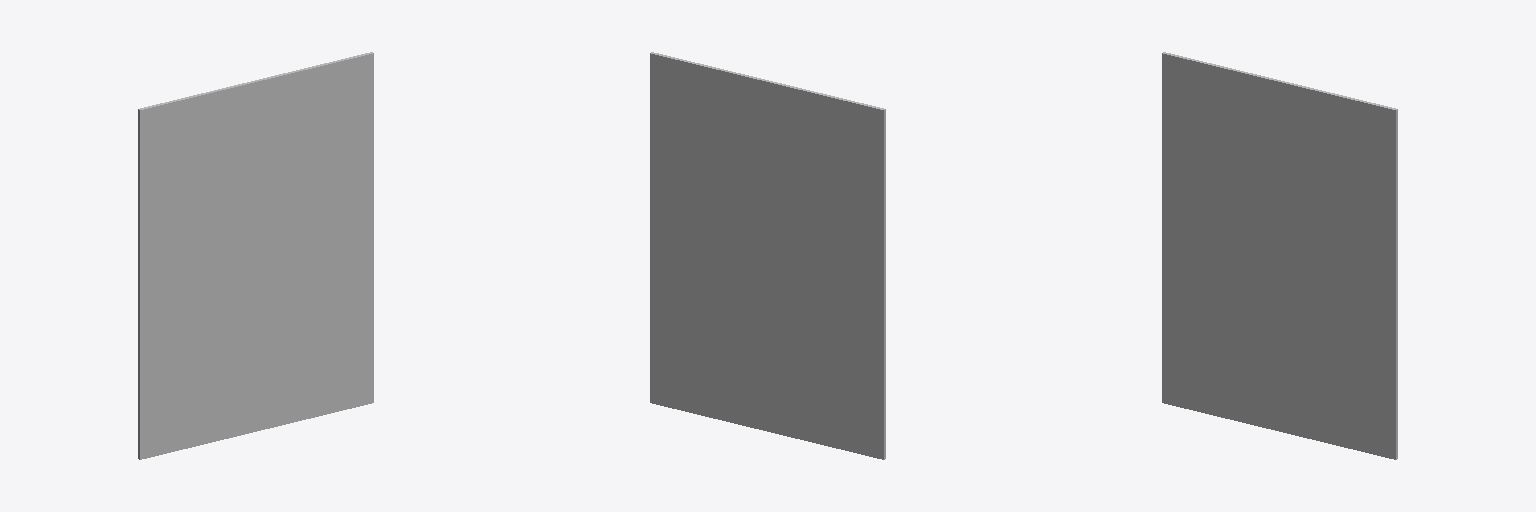
Rendered from coverTest.obj.
3 views of the same model, side by side, from view 1: azimuth 30°, elevation 25°; view 2: azimuth 150°, elevation 25°; view 3: azimuth 330°, elevation 25° (orthographic).
Visible parts, largest first — view 1: cover; view 2: cover; view 3: cover.
Boxes of the visible parts, <box> form: cover: <box>138,52,373,459</box>; cover: <box>650,52,885,459</box>; cover: <box>1162,52,1397,459</box>.
Size of the model in its own units: 7 by 10 by 0.1.